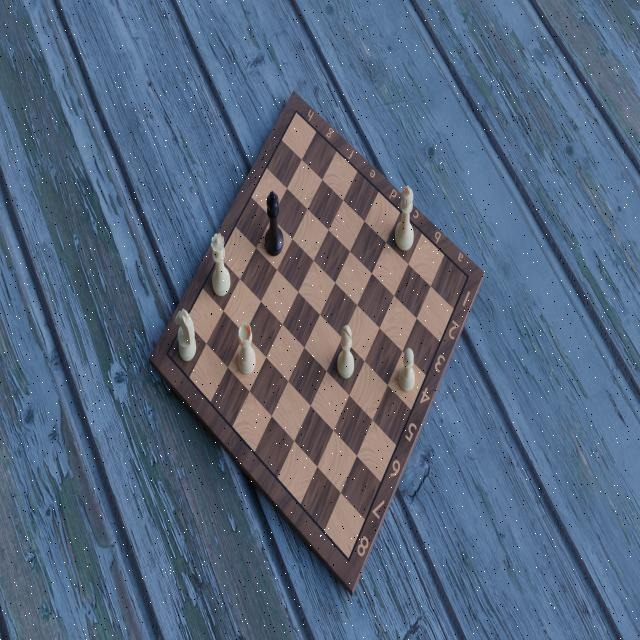black-king: (262, 188, 285, 255)
white-bishop: (336, 323, 356, 381)
white-king: (392, 186, 417, 254)
white-knight: (173, 307, 198, 362)
white-pawn: (398, 346, 416, 394)
white-queen: (209, 232, 232, 300)
white-rook: (235, 321, 256, 379)
